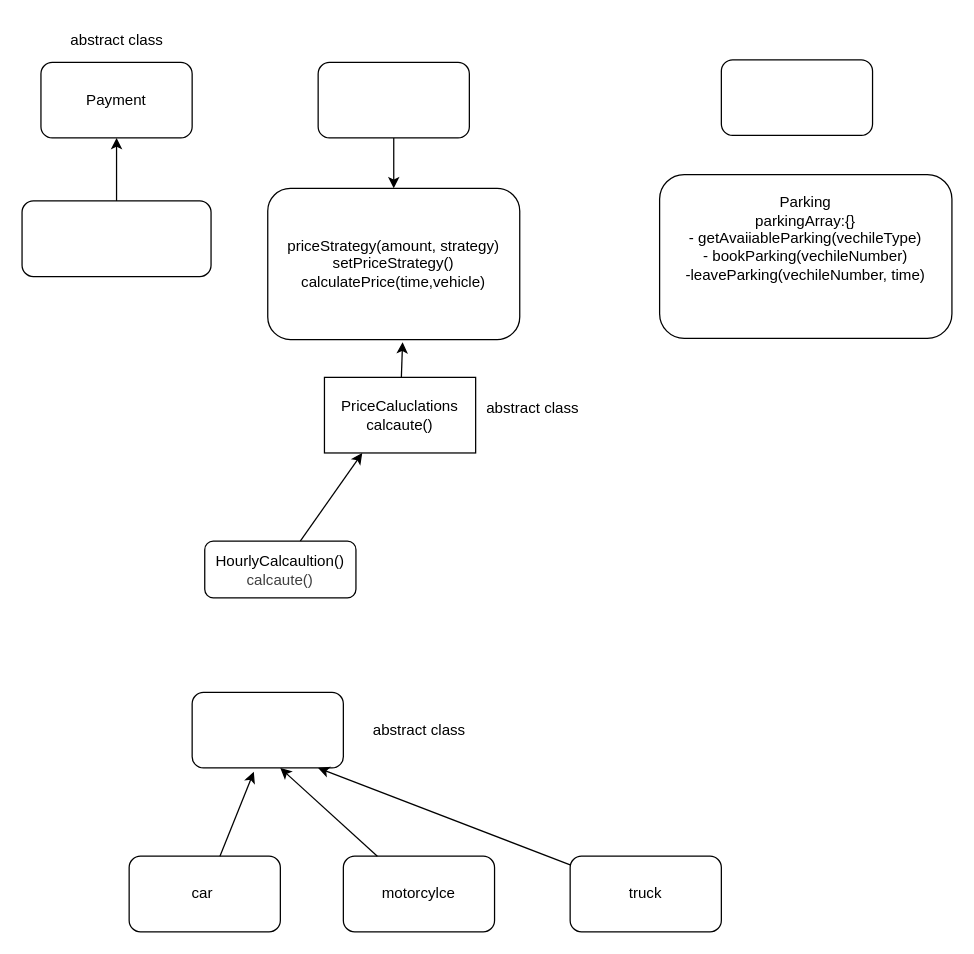
The diagram is 974 pixels wide and 954 high, and some of its shapes have lost their labels. Each missing label, with the box of its shape:
Parking Lot: (720, 59, 873, 135)
Price: (317, 61, 469, 138)
processPayment(amount): (21, 200, 211, 277)
Vechile: (191, 691, 343, 768)
